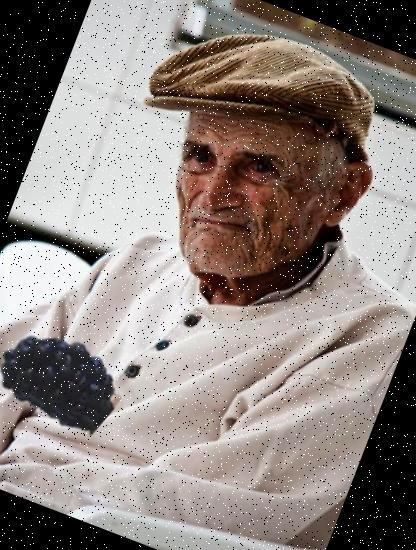Mulberry: (0, 300, 137, 458)
